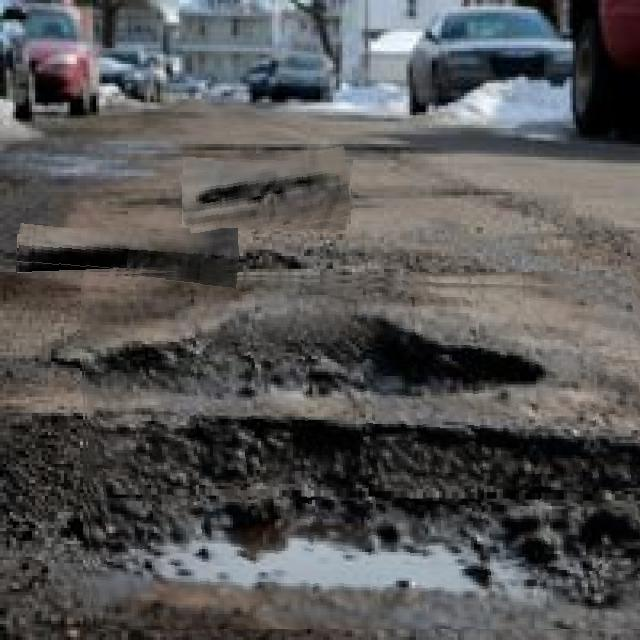Pothole: (81, 272, 640, 629), (182, 153, 353, 234), (17, 228, 238, 278)
